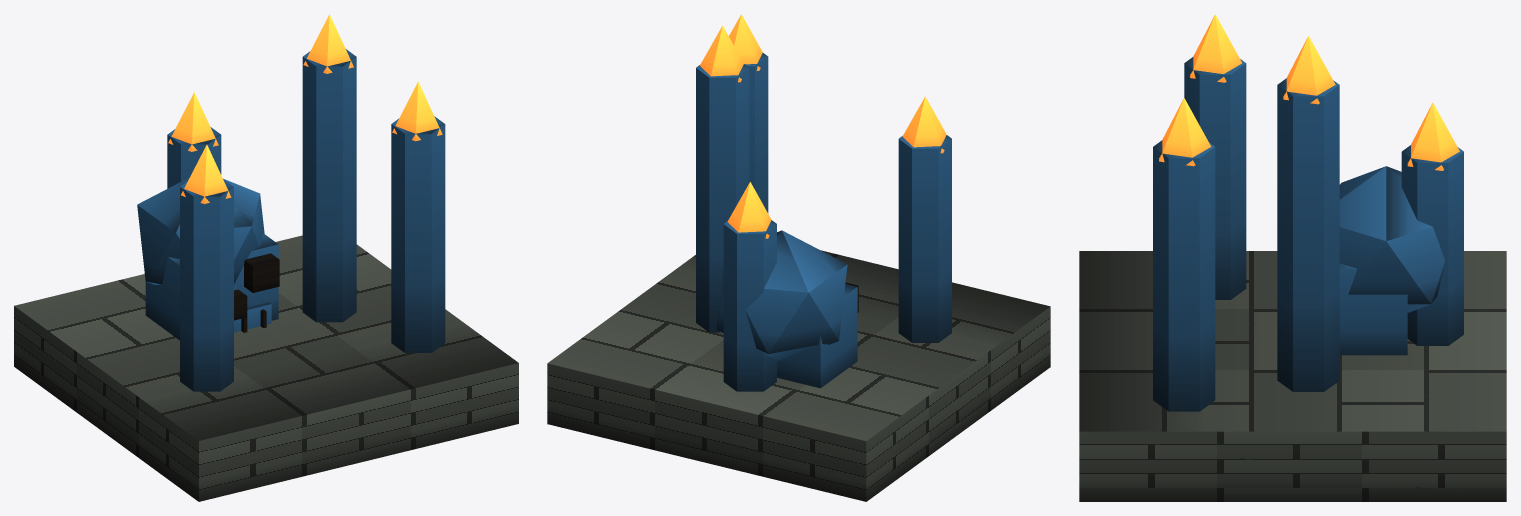
Rendered from candle_shrine.gltf.
3 views of the same model, side by side, from view 1: azimuth 30°, elevation 25°; view 2: azimuth 150°, elevation 25°; view 3: azimuth 270°, elevation 25° (orthographic). The views are drawn at different scales.
Parts seen in each view (by area): view 1: candle_shrine; view 2: candle_shrine; view 3: candle_shrine.
Boxes of the visible parts, bbox=[...] form: candle_shrine: bbox=[14, 14, 518, 501]; candle_shrine: bbox=[547, 14, 1050, 501]; candle_shrine: bbox=[1079, 14, 1506, 501].
Size of the model in its own units: 0.55 by 0.59 by 0.55.
Materials: 1 (1 with a texture image).
